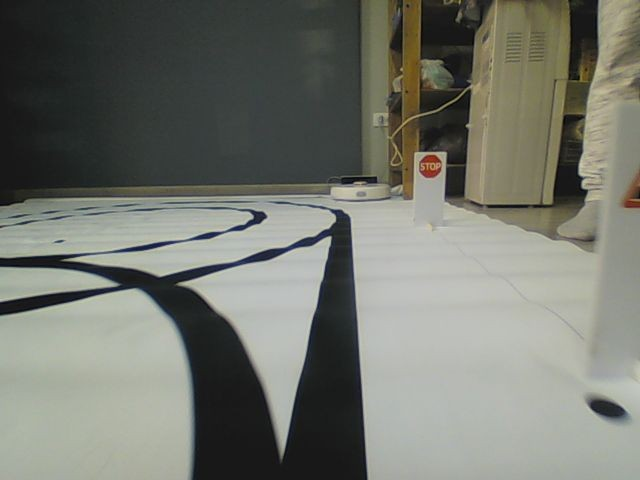Stop: (417, 155, 444, 179)
